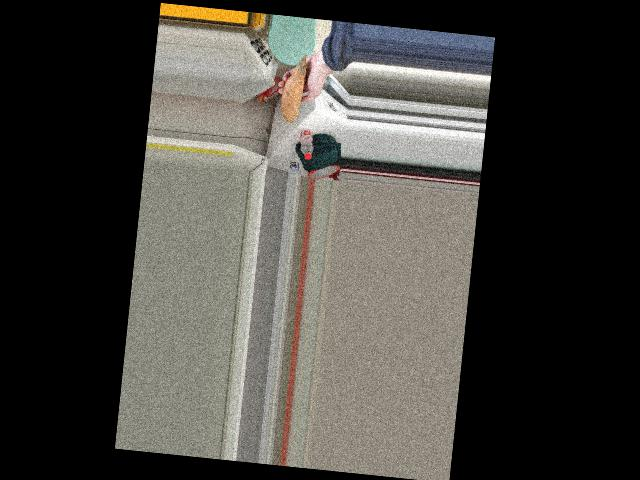sweet_potato: (277, 45, 304, 120)
